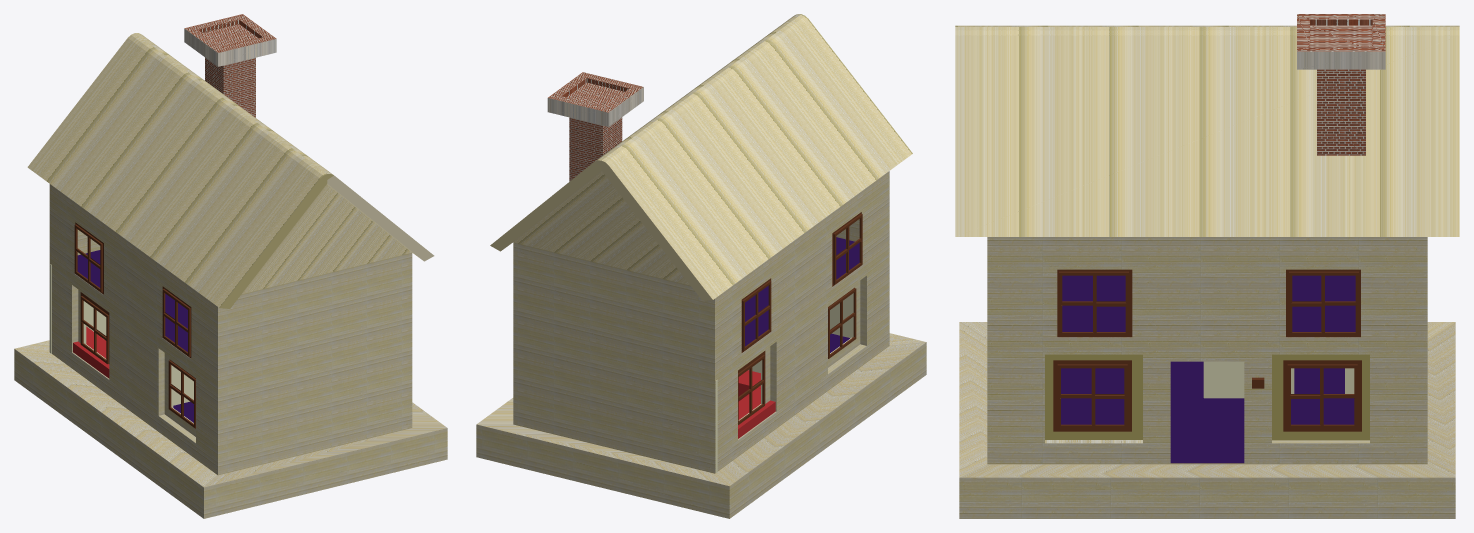
File: SurbHouseV2.glb
The picture shows the model from 3 angles, left to right: view 1: azimuth 30°, elevation 25°; view 2: azimuth 150°, elevation 25°; view 3: azimuth 270°, elevation 25°; orthographic projection. The views are drawn at different scales.
Parts seen in each view (by area): view 1: housebase, Roof.001, Chimney.001, Window.003, Window.002, Cube.002, Cube.006, Cube.008; view 2: housebase, Roof.001, Chimney.001, Window.003, Window.002, Cube.002, Cube.006, Cube.007; view 3: housebase, Roof.001, Cube, Chimney.001, Cube.002, Window.001, Window.004, Cube.004.
Boxes of the visible parts, x1,y1,x2,y2 form: housebase: [14, 184, 447, 518]; Roof.001: [27, 33, 434, 308]; Chimney.001: [184, 14, 276, 117]; Window.003: [74, 222, 191, 358]; Window.002: [80, 292, 195, 428]; Cube.002: [77, 250, 187, 351]; Cube.006: [73, 326, 109, 378]; Cube.008: [50, 264, 106, 353]; housebase: [476, 171, 926, 518]; Roof.001: [490, 14, 912, 300]; Chimney.001: [547, 72, 643, 181]; Window.003: [741, 212, 862, 352]; Window.002: [738, 287, 856, 424]; Cube.002: [744, 237, 859, 346]; Cube.006: [738, 388, 775, 438]; Cube.007: [830, 294, 851, 338]; housebase: [959, 237, 1455, 518]; Roof.001: [955, 25, 1459, 236]; Cube: [1061, 361, 1354, 463]; Chimney.001: [1297, 14, 1385, 155]; Cube.002: [1062, 275, 1355, 331]; Window.001: [1053, 360, 1361, 431]; Window.004: [1057, 269, 1360, 337]; Cube.004: [1204, 361, 1354, 398].
Bounding box in the file's own units: 15.05 × 19.87 × 20.6.
Materials: 10 (2 with a texture image).
